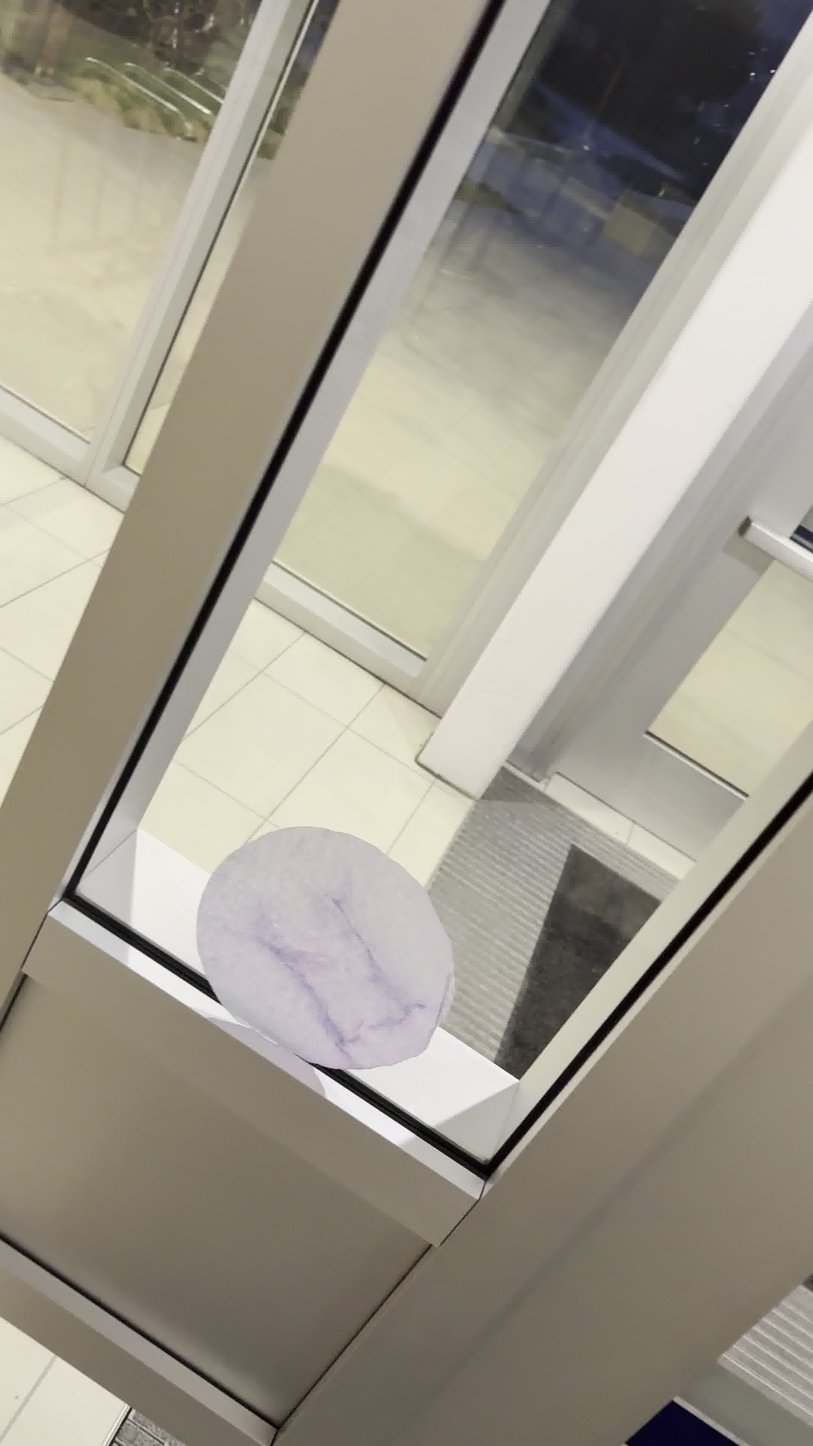Target: (192, 824, 464, 1071)
